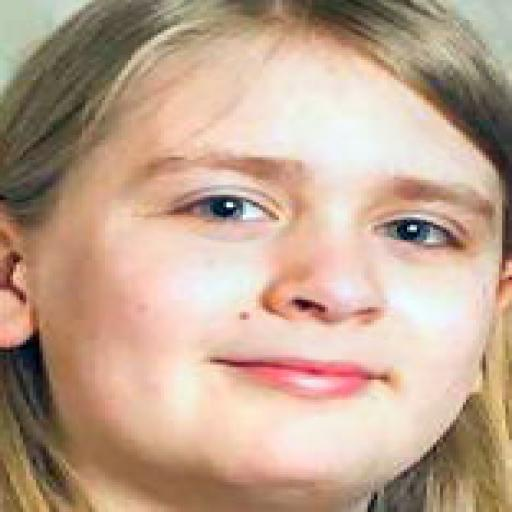Autism: (44, 15, 492, 480)
